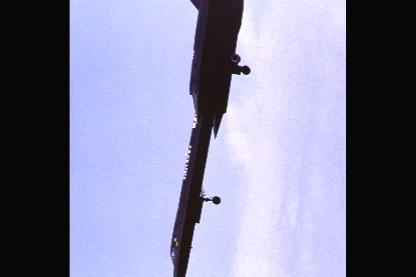Rafale: (168, 0, 251, 276)
